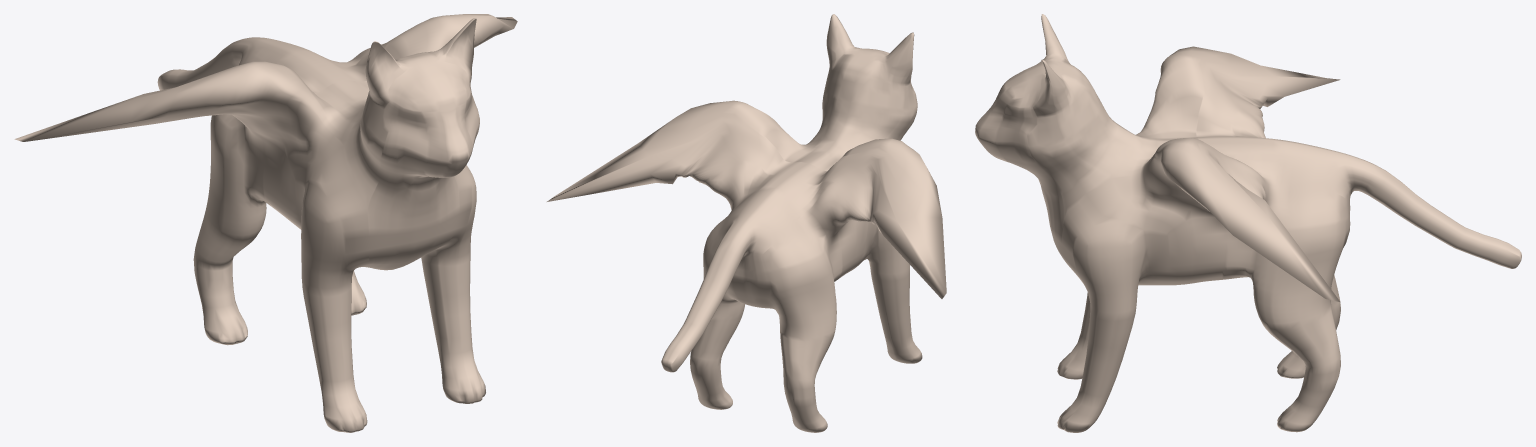
Rendered from WingedCat.fbx.
3 renders of one model, left to right at view 1: azimuth 30°, elevation 25°; view 2: azimuth 150°, elevation 25°; view 3: azimuth 270°, elevation 25°, orthographic. The views are drawn at different scales.
Parts seen in each view (by area): view 1: cat; view 2: cat; view 3: cat.
Boxes of the visible parts, <box> form: cat: <box>14,14,517,432</box>; cat: <box>547,14,946,432</box>; cat: <box>975,14,1521,432</box>.
Size of the model in its own units: 12.39 by 9.42 by 12.81.
